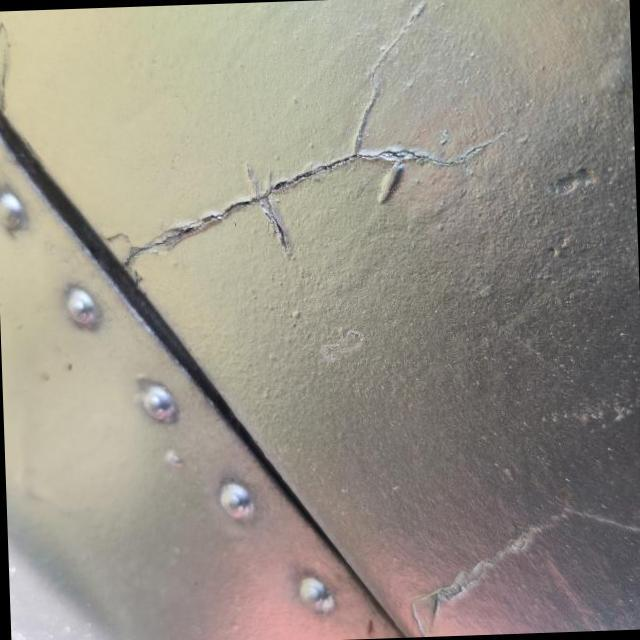Rupture: (96, 55, 513, 287)
